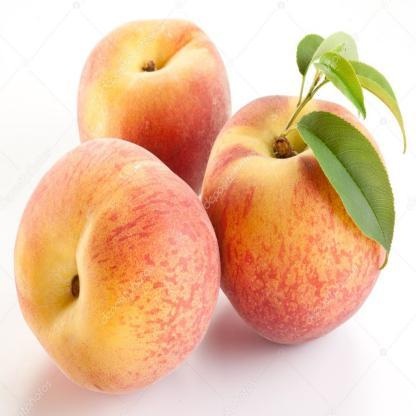Peach leaf: (298, 118, 398, 262), (314, 52, 364, 118)
